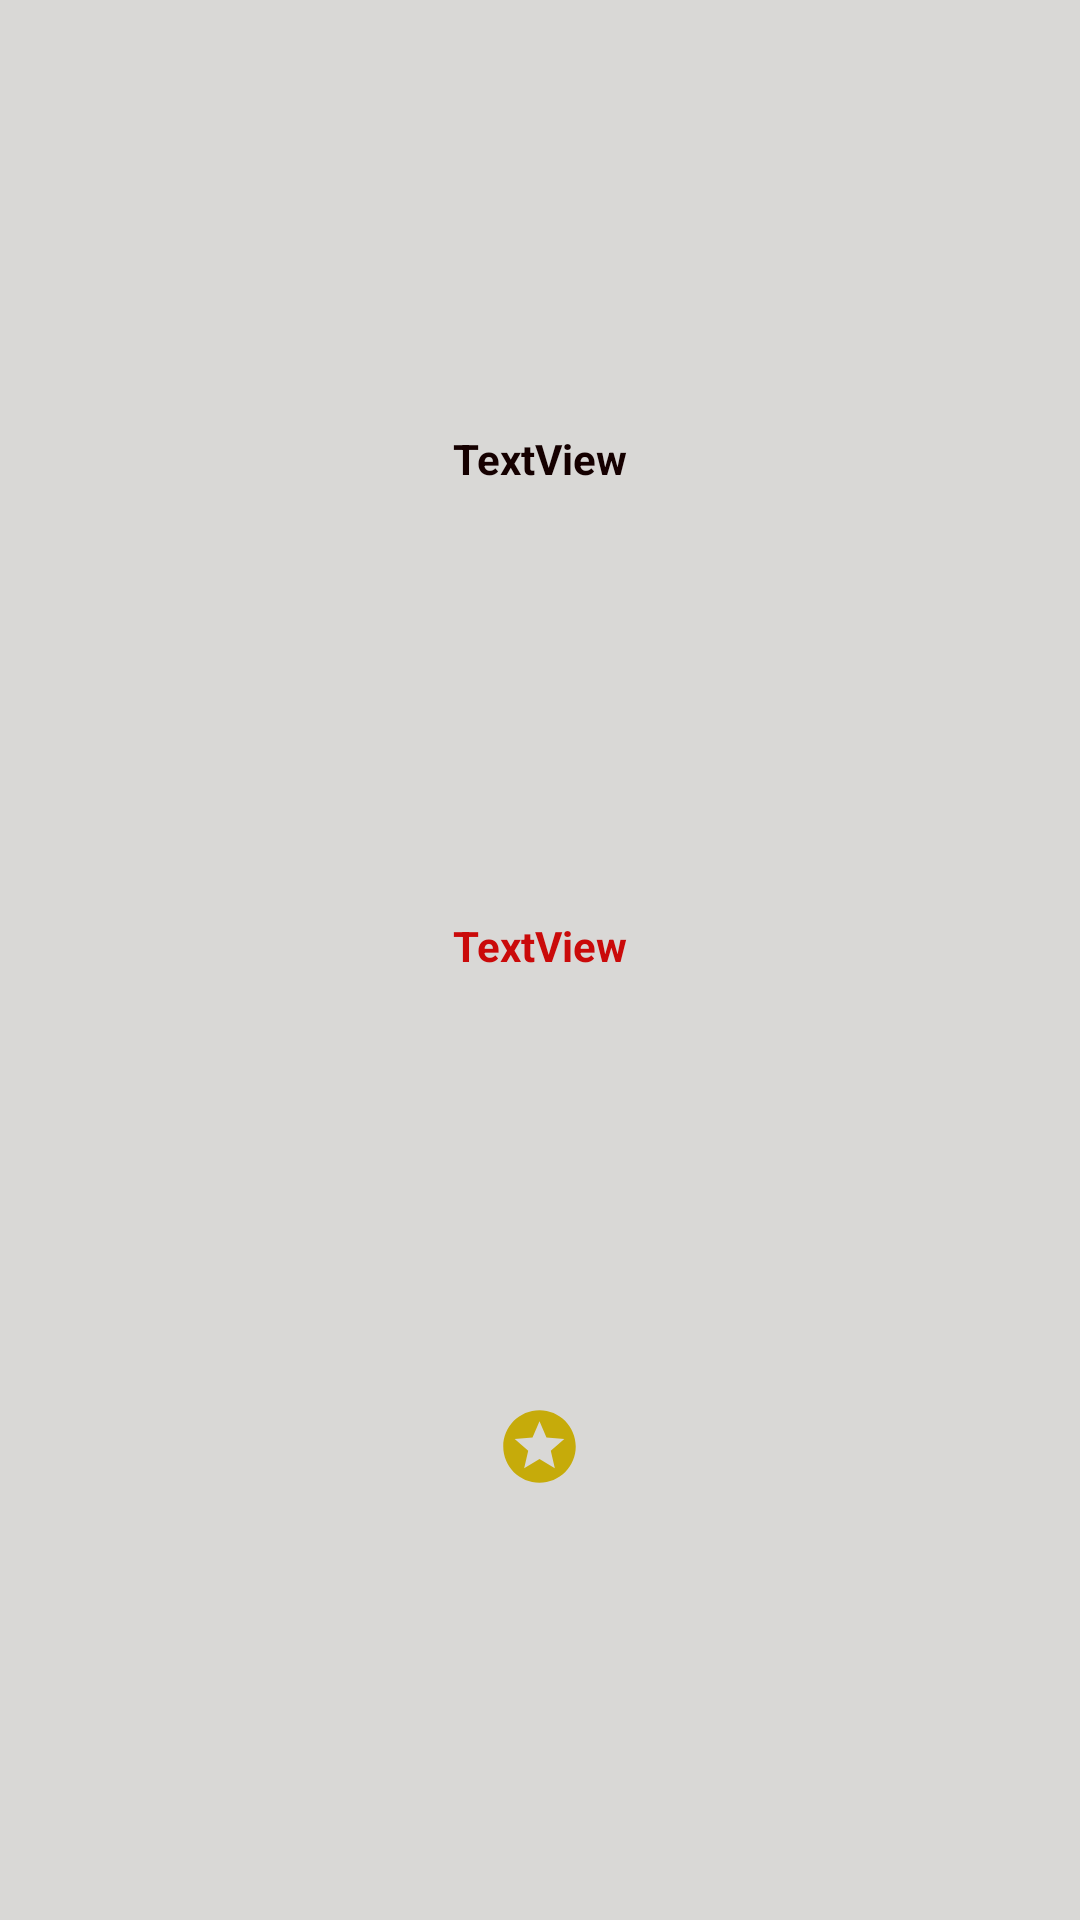

Icons on this 1080px×1920px Android screen, each with its box as (x1, y1, x2, y2):
stars: (503, 1410, 576, 1483)
